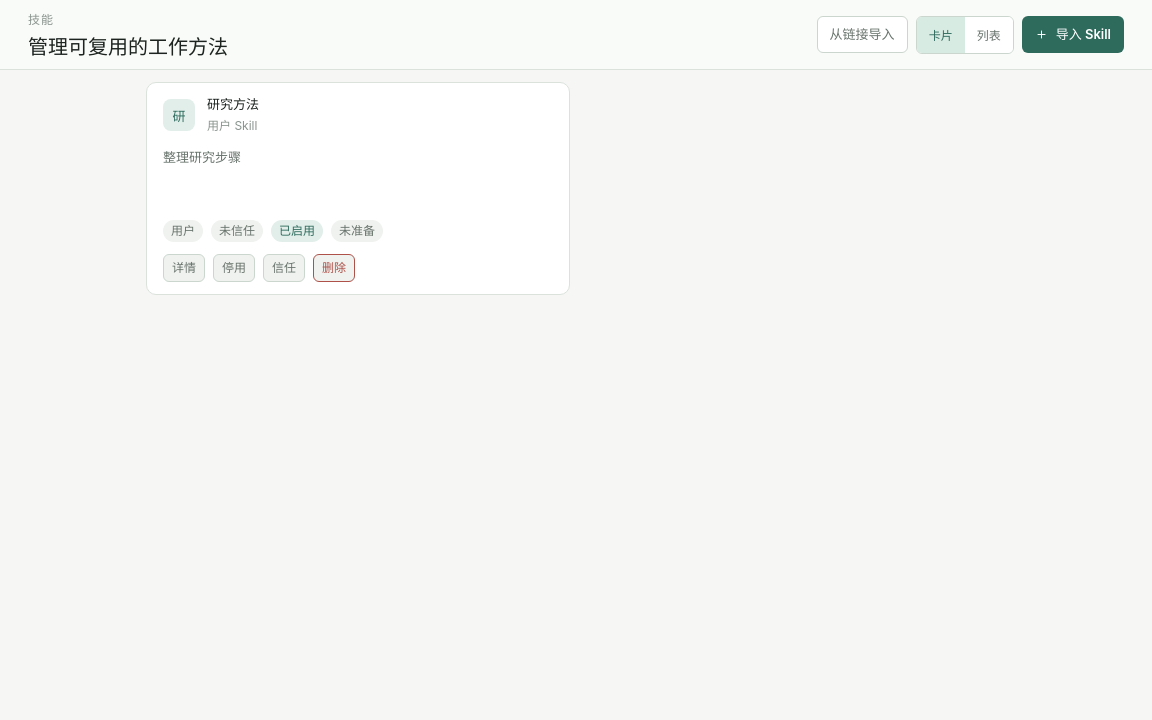
Test: SkillsPage › asks for confirmation from the card footer without opening the detail page
Expected: the text "研究方法" is shown, [207, 95, 259, 113]
Click the button "删除".
click(334, 268)  # box [313, 254, 355, 282]
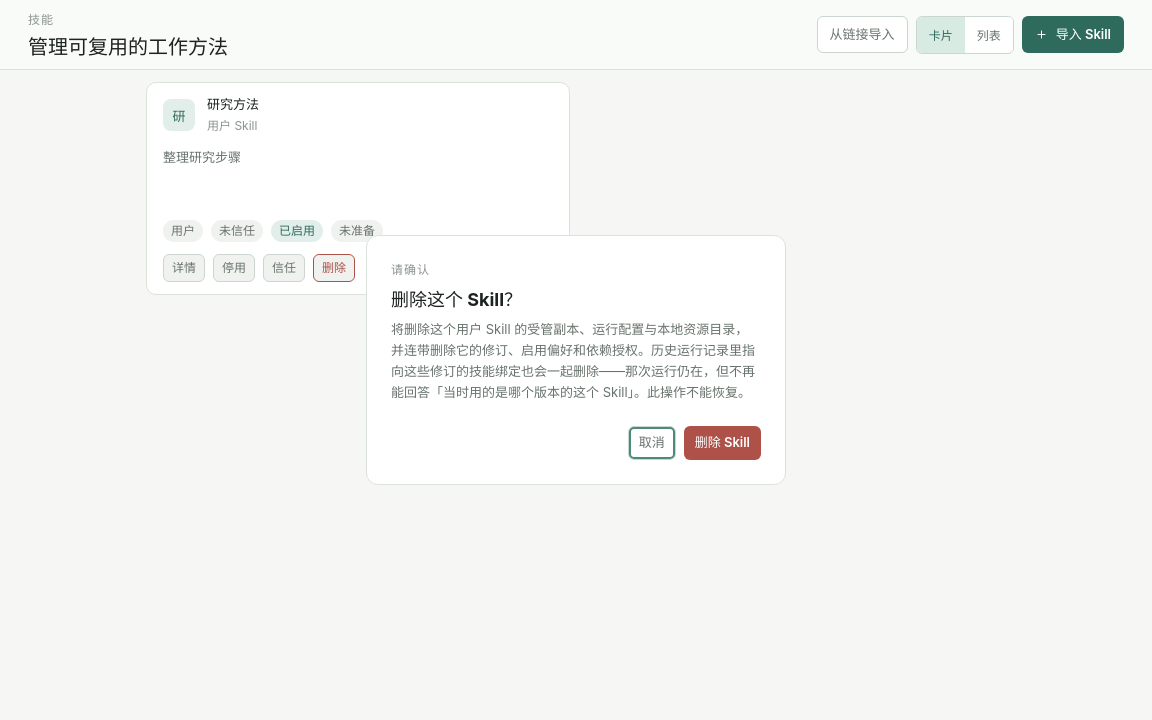
Now the heading "删除这个 Skill？" is shown, box [391, 285, 522, 311]
Now the text "技能绑定" is shown, box [391, 321, 755, 400]
Click the button "删除 Skill".
click(722, 443)  # box [684, 426, 761, 460]
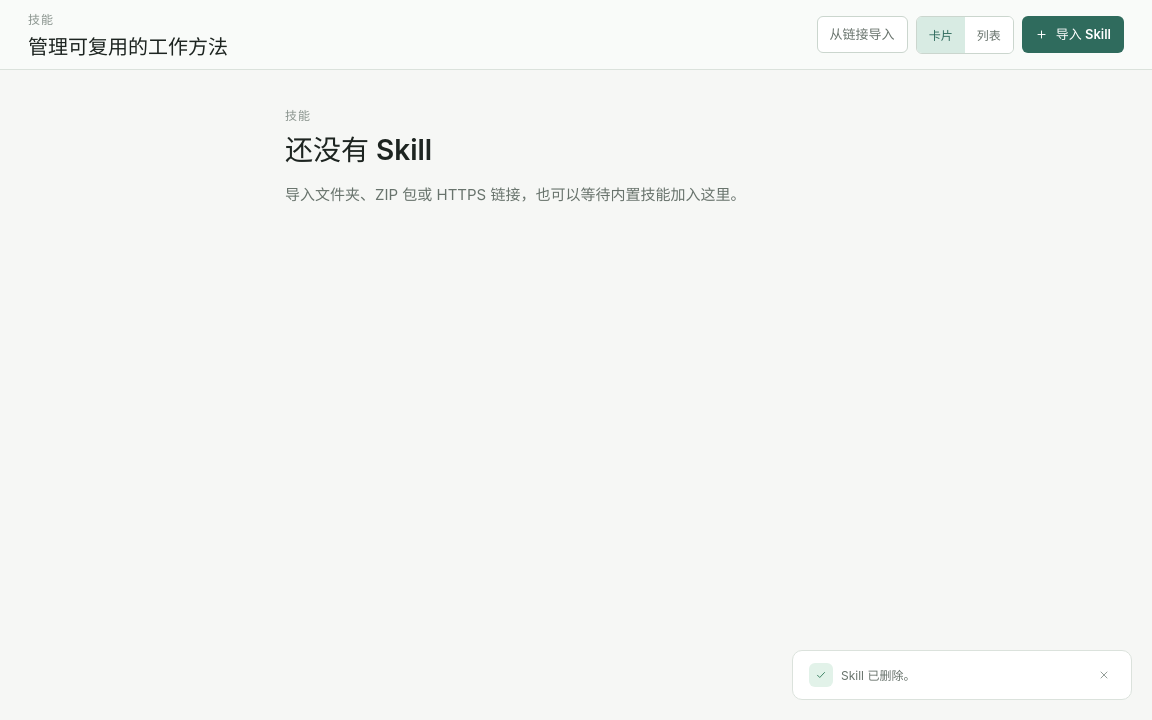
Now the dialog is gone
